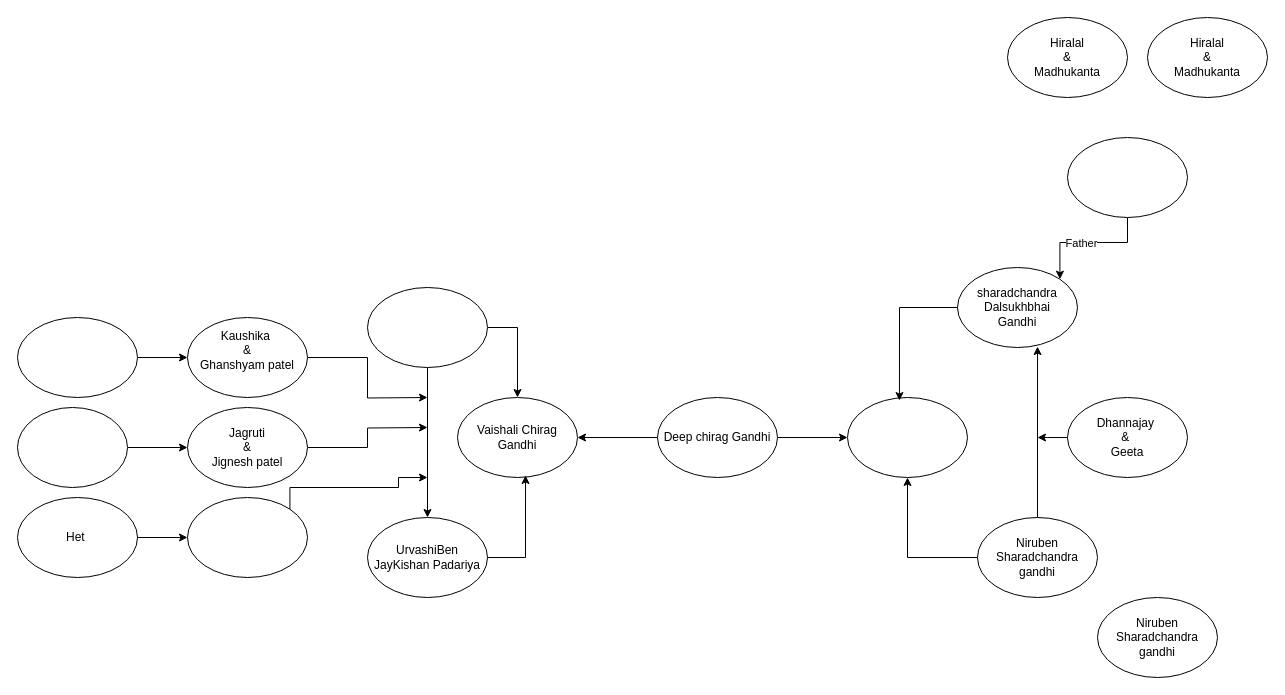
This 1285x695 diagram has some shape labels left out. Here are the shapes that lost their labels. From the top down, the box of each, then its label:
(1066, 136, 1188, 218): Dalsukhbhai & NarmadaBen
(366, 286, 488, 368): JayKishanBhai chunilal padariya
(16, 316, 138, 398): Harsh & Krutika Jay
(16, 406, 128, 488): vraj patel
(846, 396, 968, 478): Chirag sharadchandra gandhi
(186, 496, 308, 578): Pragnesh & Rachana padariya
